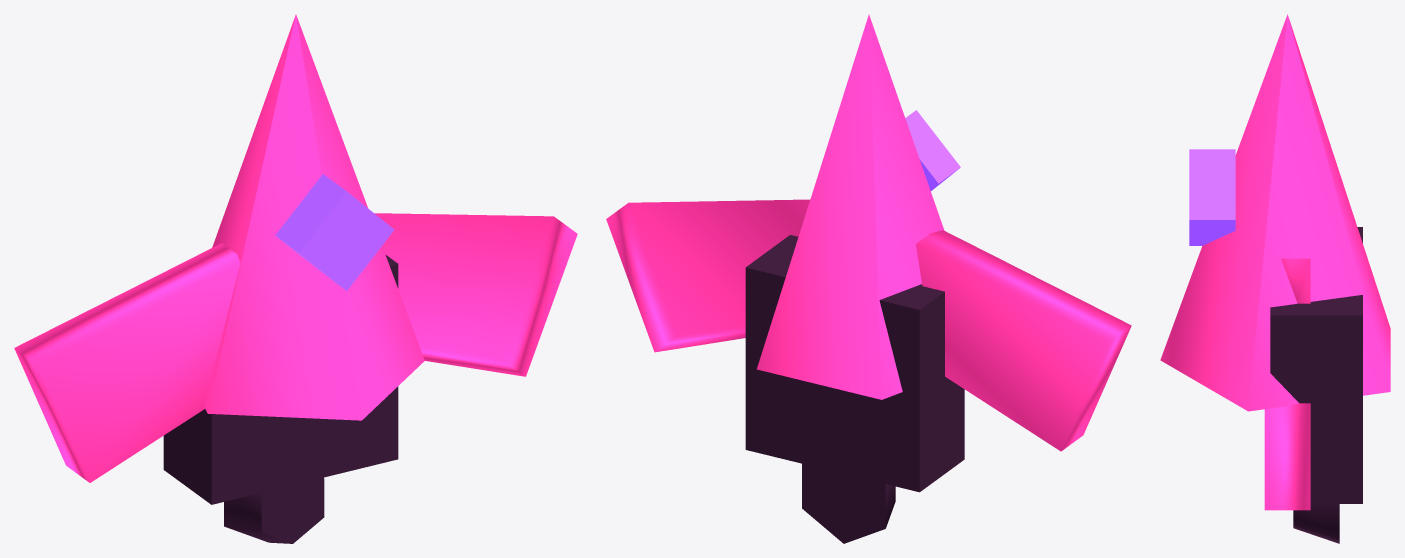
Rendered from enemy-drone.glb.
The picture shows the model from 3 angles, left to right: view 1: azimuth 30°, elevation 25°; view 2: azimuth 150°, elevation 25°; view 3: azimuth 270°, elevation 25°; orthographic projection. The views are drawn at different scales.
Parts seen in each view (by area): view 1: body_core, left_claw_wing, right_claw_wing, rear_block, center_eye, tail_nozzle; view 2: body_core, rear_block, left_claw_wing, right_claw_wing, tail_nozzle, center_eye; view 3: body_core, rear_block, right_claw_wing, center_eye, tail_nozzle.
Boxes of the visible parts, x1,y1,x2,y2 form: body_core: [204, 14, 424, 420]; left_claw_wing: [14, 243, 240, 482]; right_claw_wing: [374, 213, 577, 376]; rear_block: [163, 254, 398, 504]; center_eye: [275, 174, 394, 290]; tail_nozzle: [224, 477, 324, 543]; body_core: [757, 14, 944, 399]; rear_block: [745, 235, 964, 492]; left_claw_wing: [916, 230, 1131, 451]; right_claw_wing: [606, 199, 809, 352]; tail_nozzle: [802, 463, 895, 543]; center_eye: [905, 110, 960, 190]; body_core: [1160, 14, 1390, 411]; rear_block: [1270, 227, 1362, 503]; right_claw_wing: [1264, 258, 1310, 510]; center_eye: [1189, 149, 1235, 245]; tail_nozzle: [1293, 504, 1339, 543].
Bounding box in the file's own units: 1.04 × 1.01 × 0.398.
